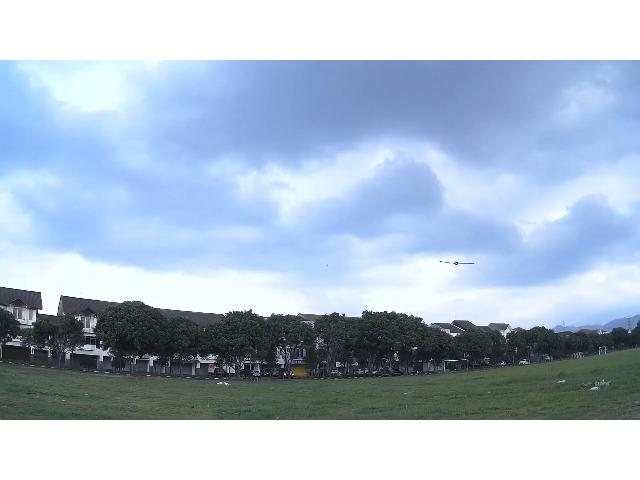Anti-Drone: (438, 260, 474, 266)
